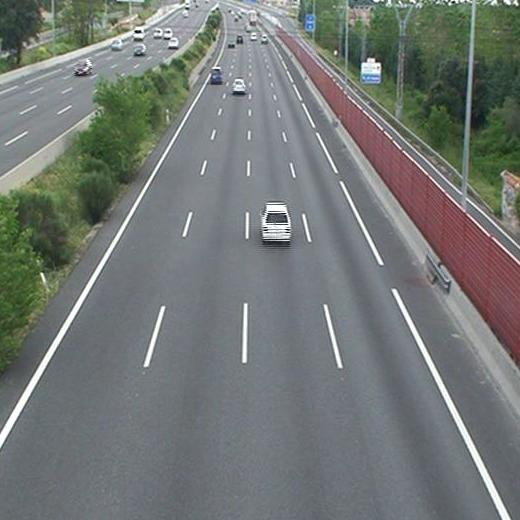car: (261, 203, 292, 242), (232, 79, 246, 93), (261, 35, 269, 44), (235, 34, 244, 42), (226, 40, 234, 47), (250, 32, 256, 41)
van: (211, 68, 222, 83)
